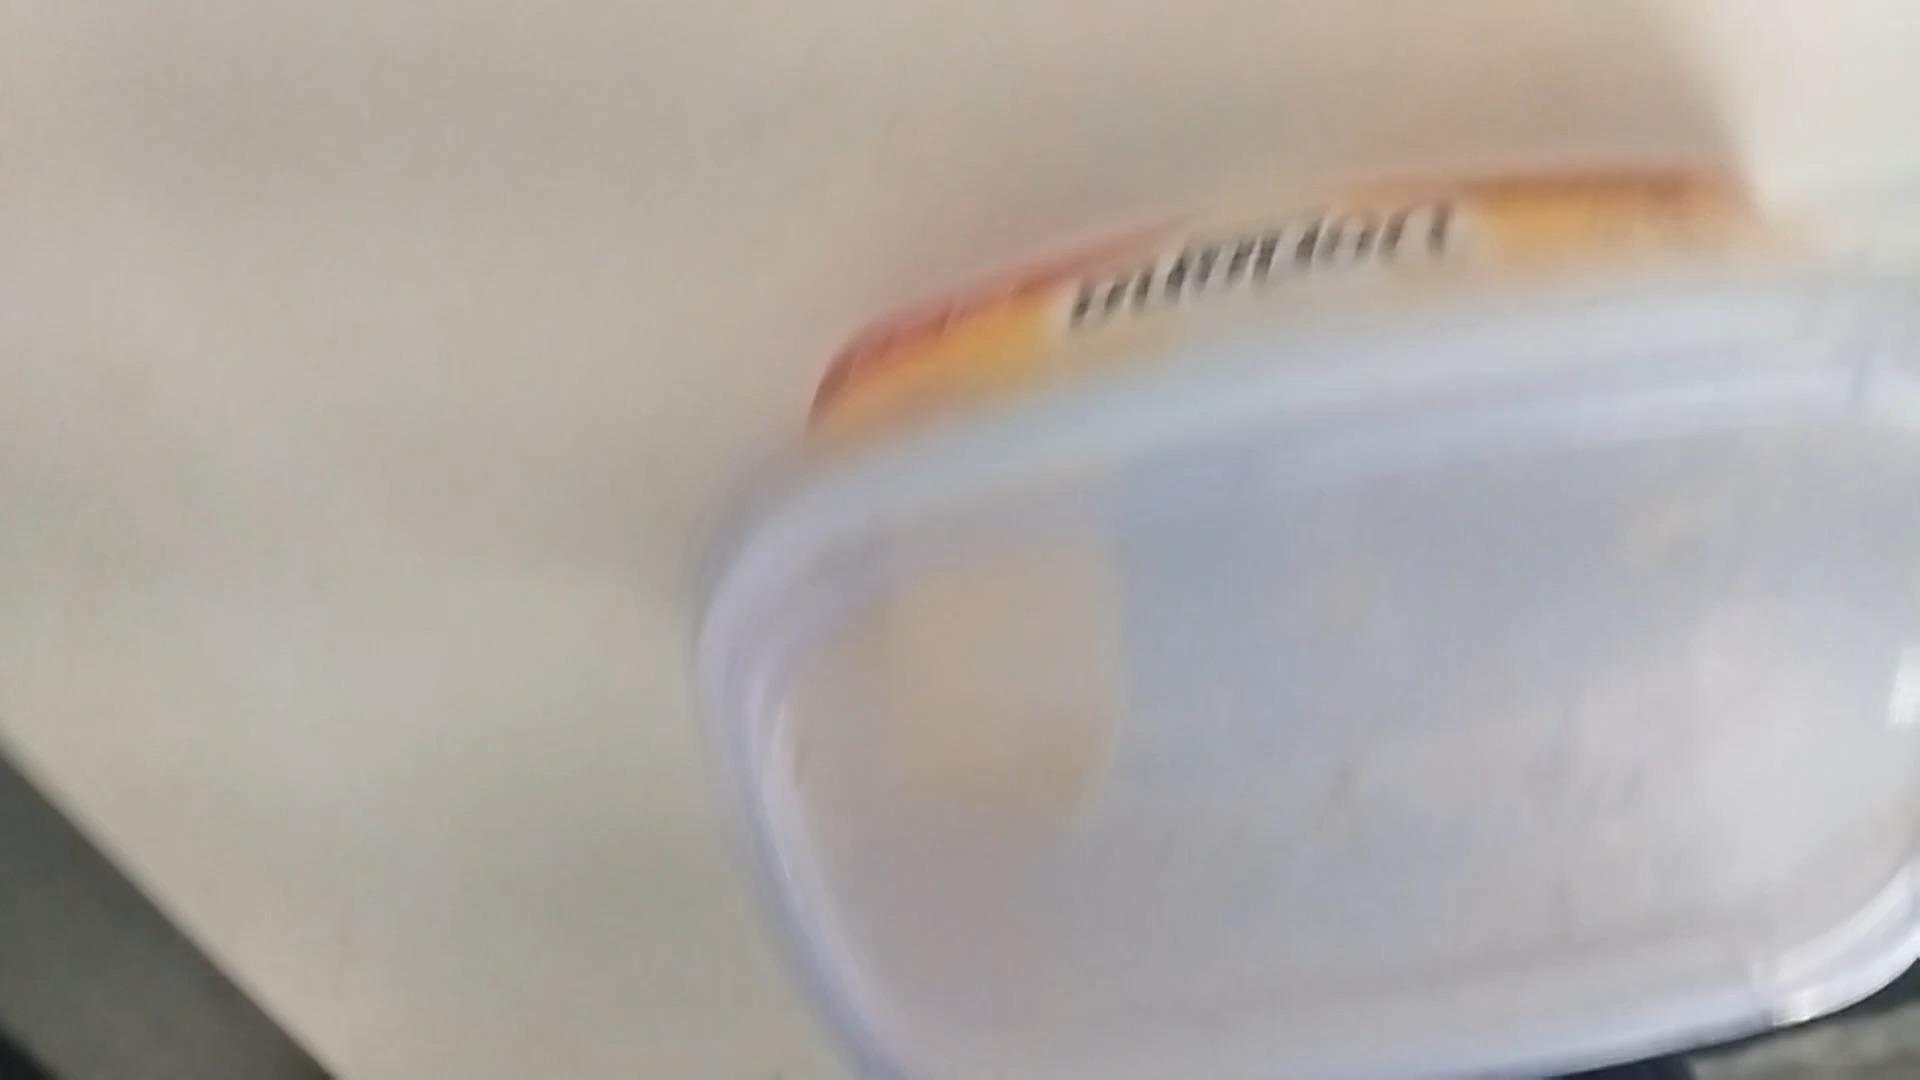butter: (692, 142, 1920, 1080)
